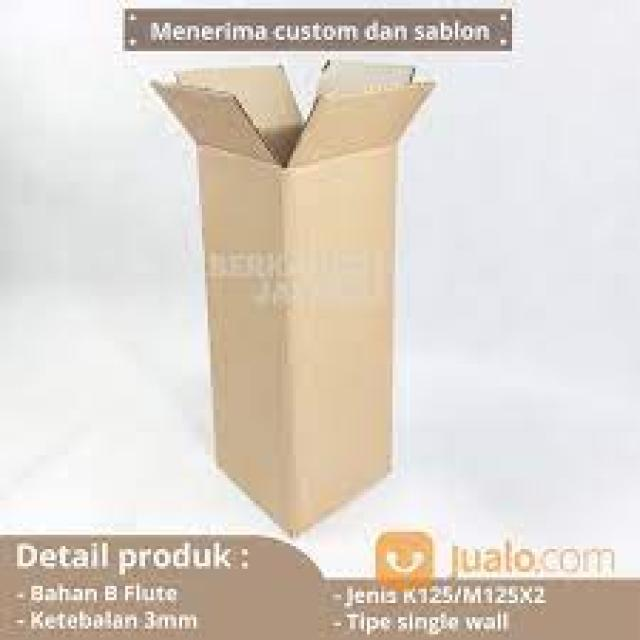Kardus kondisi bagus: (152, 61, 437, 536)
